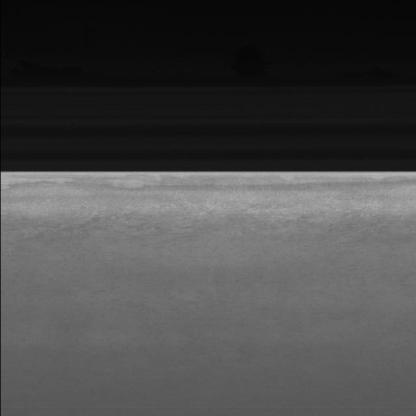silk_spot: (55, 193, 296, 247)
